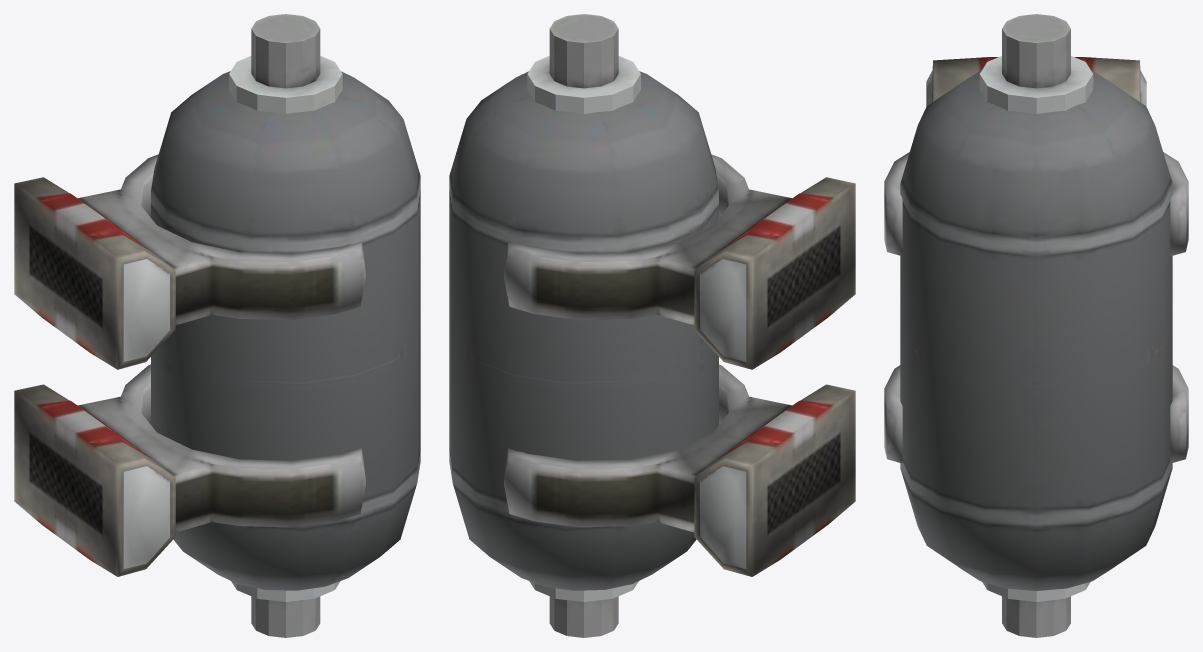
Rendered from Part - Extras 03b-DF-pWz2E.glb.
3 views of the same model, side by side, from view 1: azimuth 30°, elevation 25°; view 2: azimuth 150°, elevation 25°; view 3: azimuth 270°, elevation 25° (orthographic).
Visible parts, largest first — view 1: Extras_03b, Extras_03_pad2, Extras_03_pad, Extras_03_end (1), Extras_03_end; view 2: Extras_03b, Extras_03_pad2, Extras_03_pad, Extras_03_end (1), Extras_03_end; view 3: Extras_03b, Extras_03_end (1), Extras_03_pad2, Extras_03_end, Extras_03_pad.
Boxes of the visible parts, left/top/right/bottom form: Extras_03b: left=151, top=71, right=420, bottom=590; Extras_03_pad2: left=14, top=154, right=365, bottom=369; Extras_03_pad: left=14, top=364, right=365, bottom=576; Extras_03_end (1): left=229, top=14, right=342, bottom=113; Extras_03_end: left=231, top=581, right=340, bottom=637; Extras_03b: left=449, top=71, right=718, bottom=590; Extras_03_pad2: left=504, top=154, right=855, bottom=369; Extras_03_pad: left=504, top=364, right=855, bottom=576; Extras_03_end (1): left=527, top=14, right=640, bottom=113; Extras_03_end: left=529, top=581, right=638, bottom=637; Extras_03b: left=900, top=70, right=1172, bottom=590; Extras_03_end (1): left=979, top=14, right=1093, bottom=113; Extras_03_pad2: left=884, top=57, right=1188, bottom=255; Extras_03_end: left=982, top=582, right=1090, bottom=637; Extras_03_pad: left=884, top=365, right=1188, bottom=463.
Size of the model in its own units: 1.63 by 2.75 by 1.28.
Materials: 2 (2 with a texture image).
